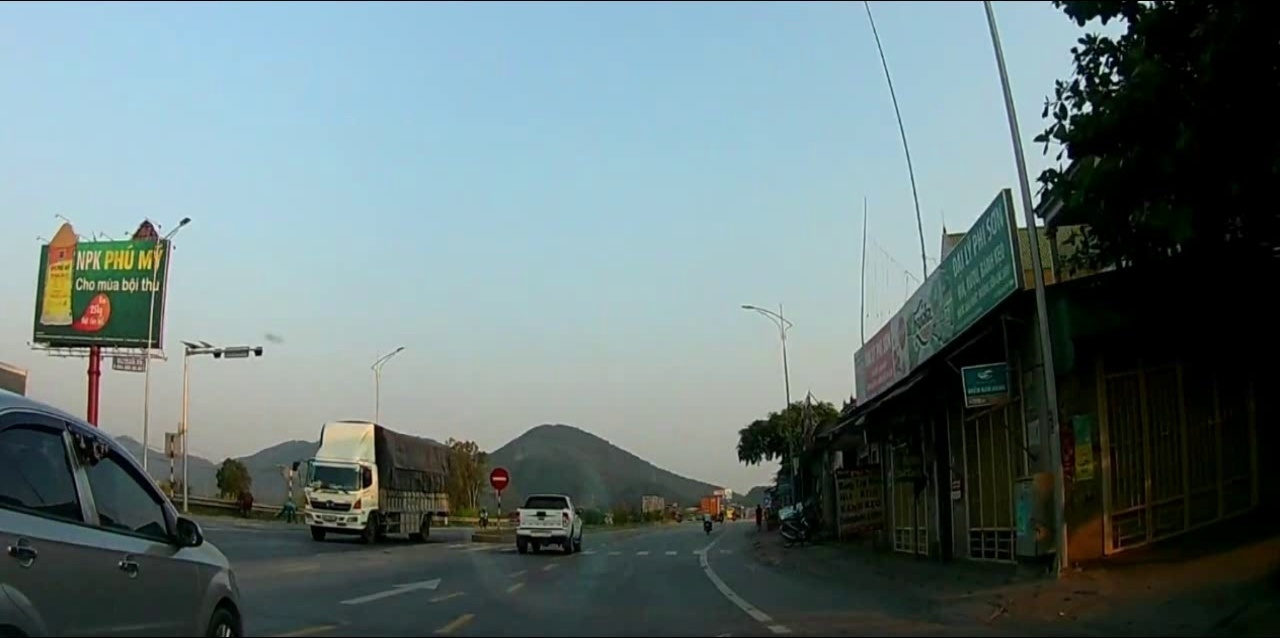Cam di nguoc chieu: (488, 466, 508, 491)
